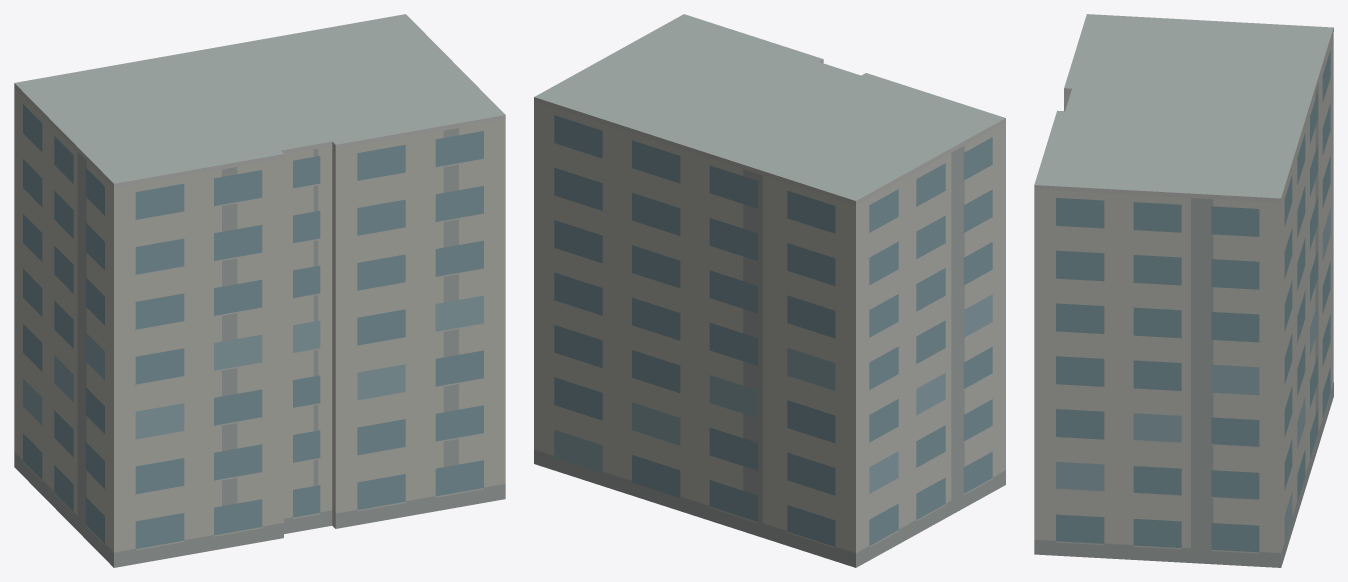
File: survey-upis-32737302.glb
3 views of the same model, side by side, from view 1: azimuth 30°, elevation 25°; view 2: azimuth 150°, elevation 25°; view 3: azimuth 270°, elevation 25° (orthographic). The views are drawn at different scales.
Visible parts, largest first — view 1: survey-upis-32737302.tmp; view 2: survey-upis-32737302.tmp; view 3: survey-upis-32737302.tmp.
Part boxes in pixels (left/top/right/bottom): survey-upis-32737302.tmp: left=14, top=14, right=505, bottom=567; survey-upis-32737302.tmp: left=534, top=14, right=1005, bottom=567; survey-upis-32737302.tmp: left=1034, top=14, right=1333, bottom=567.
Bounding box in the file's own units: 21.42 × 20 × 14.7.
